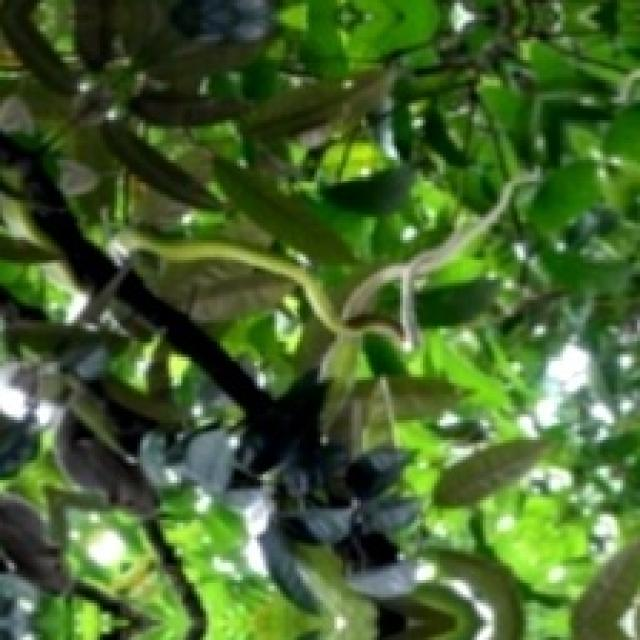red-tailed green ratsnake: (130, 174, 539, 348)
